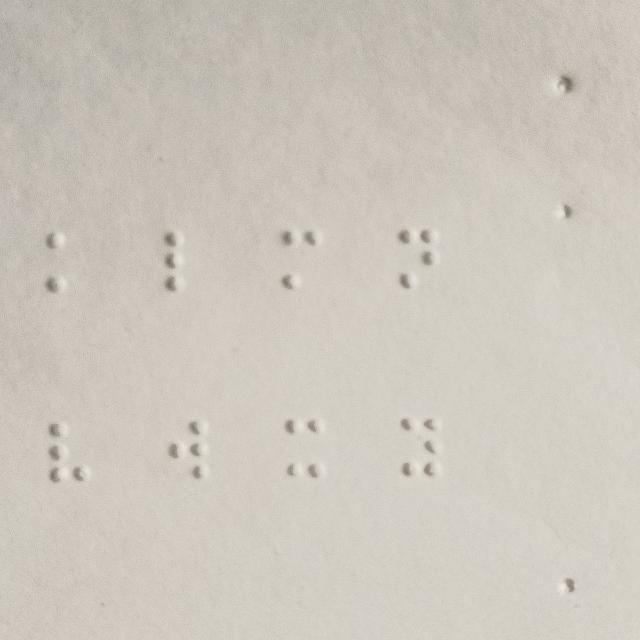k: (44, 231, 85, 294)
l: (165, 231, 205, 294)
m: (280, 228, 321, 291)
n: (400, 227, 438, 290)
v: (50, 423, 91, 483)
w: (169, 421, 205, 481)
x: (285, 417, 322, 477)
y: (401, 415, 437, 475)
